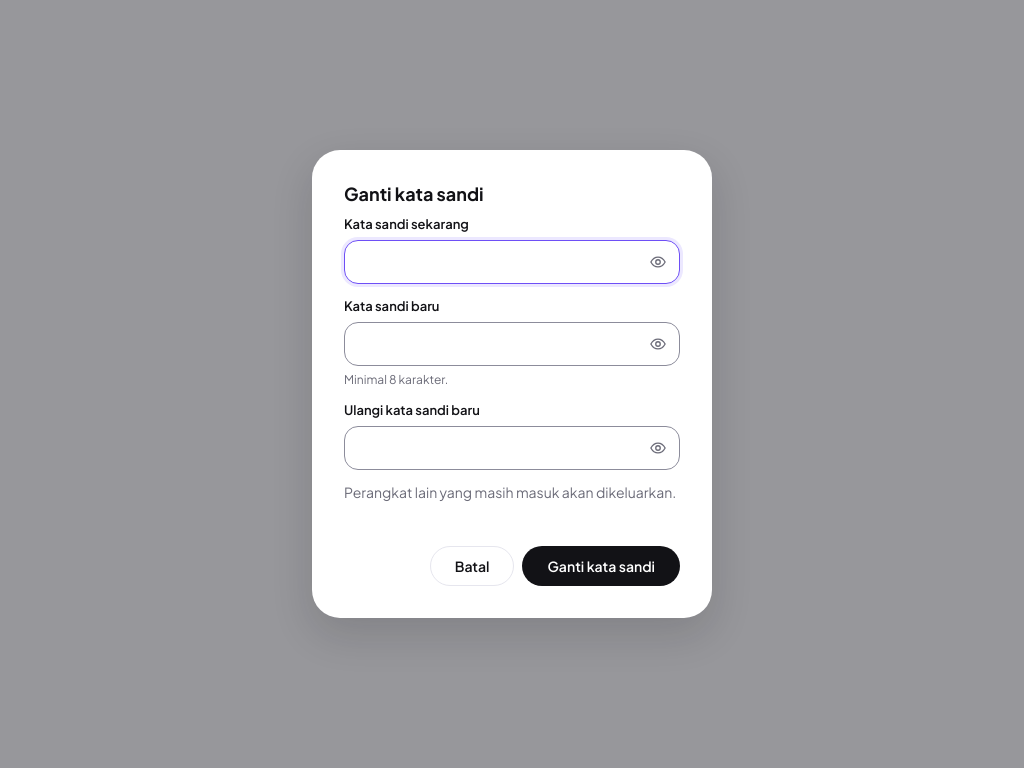
Test: PasswordDialog › menolak sandi baru di bawah 8 karakter
Type "rahasia123" into the password field labelled "Kata sandi sekarang" at (498, 262), box x1=361 y1=241 x2=635 y2=283
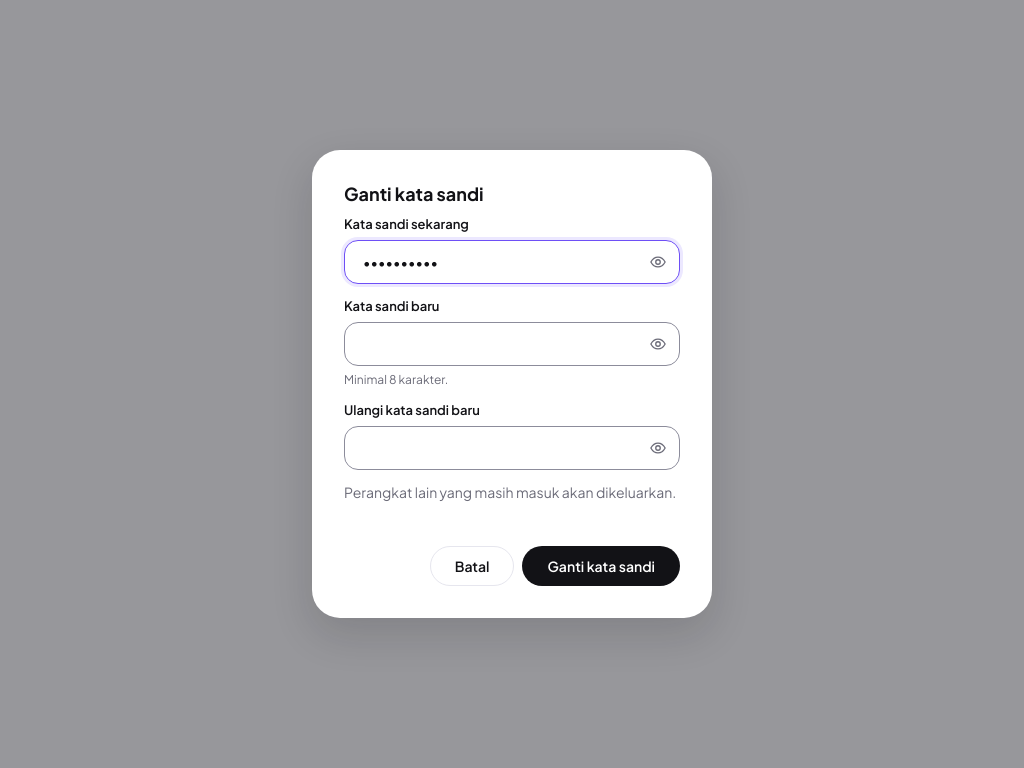
Type "pendek" into the password field labelled "Kata sandi baru" at (498, 344), box x1=361 y1=323 x2=635 y2=365
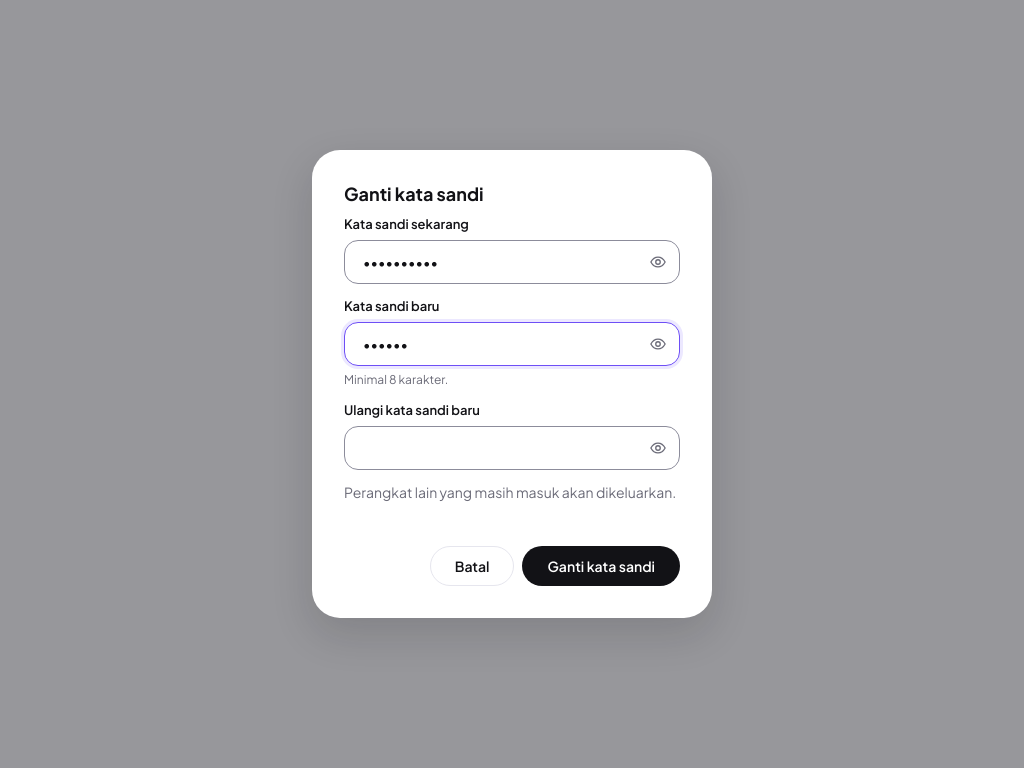
Type "pendek" into the password field labelled "Ulangi kata sandi baru" at (498, 448), box x1=361 y1=427 x2=635 y2=469
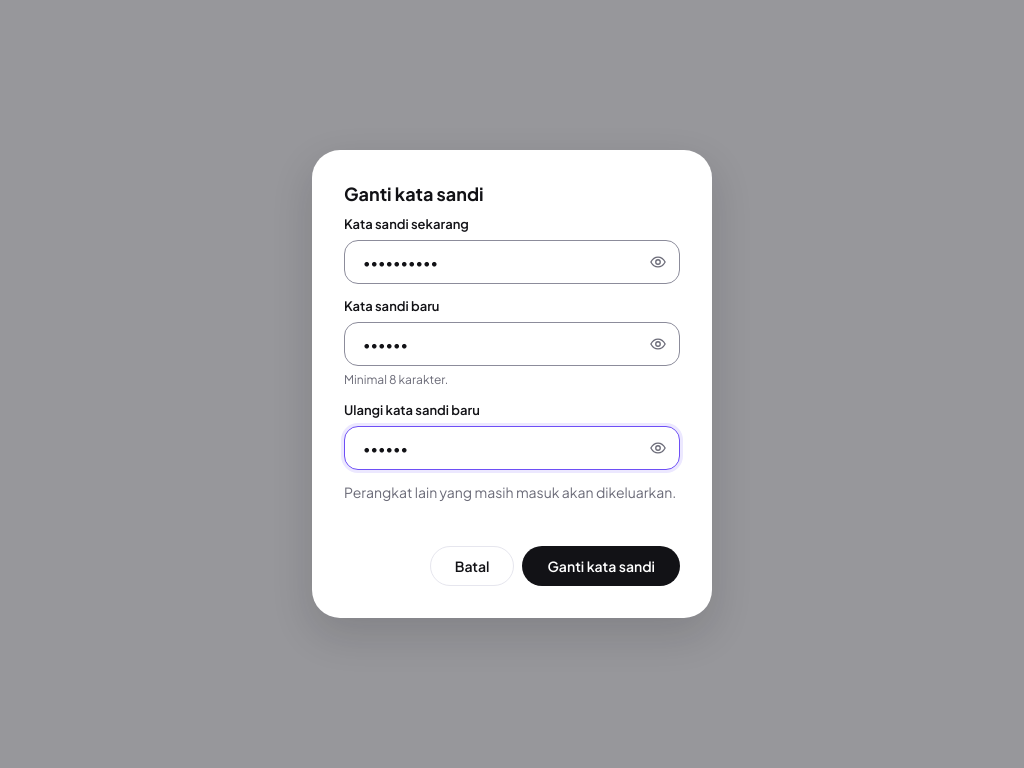
Click the button "Ganti kata sandi" at (601, 566), box x1=522 y1=546 x2=680 y2=586
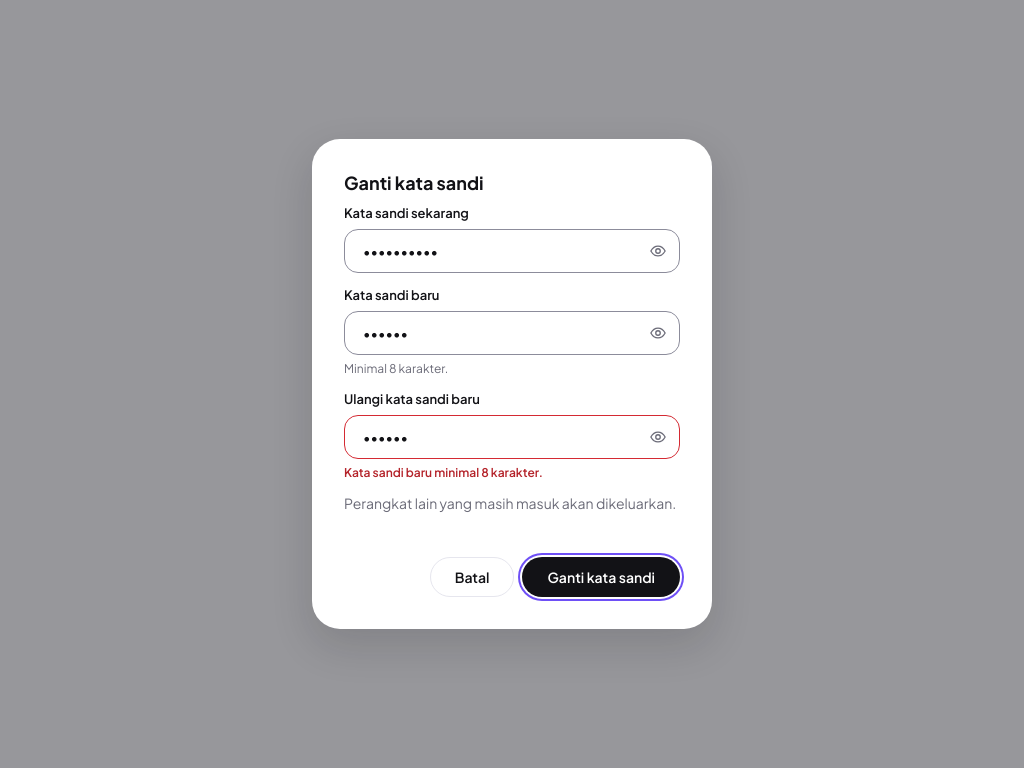
Expected: the message shows "minimal 8 karakter", x1=344 y1=465 x2=543 y2=480
